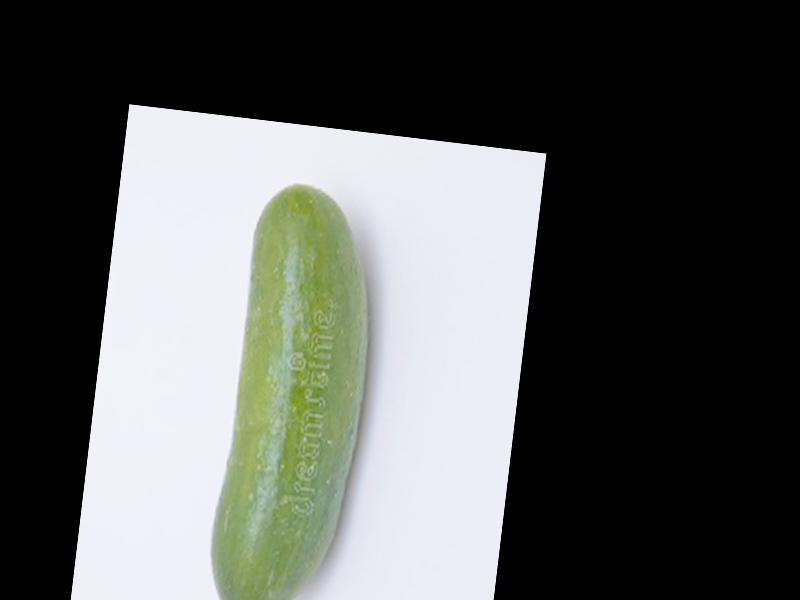Cucumber: (200, 178, 387, 600)
